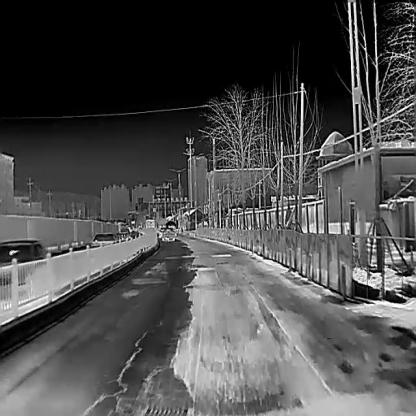car: (0, 238, 51, 295), (91, 232, 116, 247), (162, 229, 174, 240)
